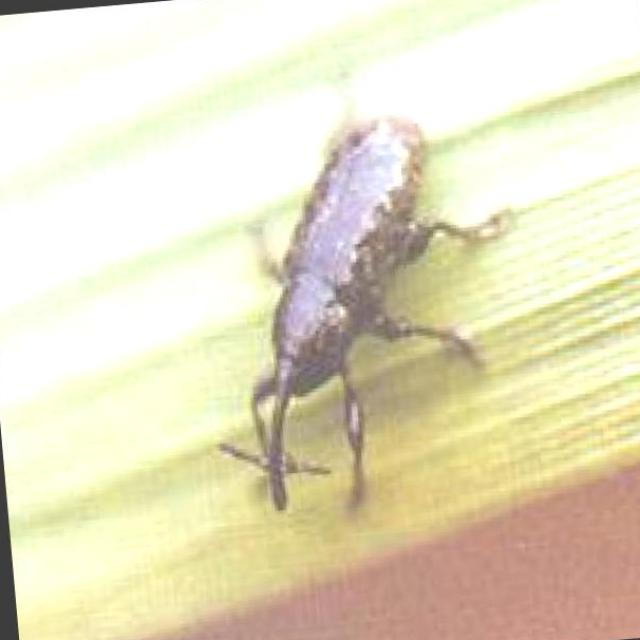ricebug: (221, 115, 512, 510)
